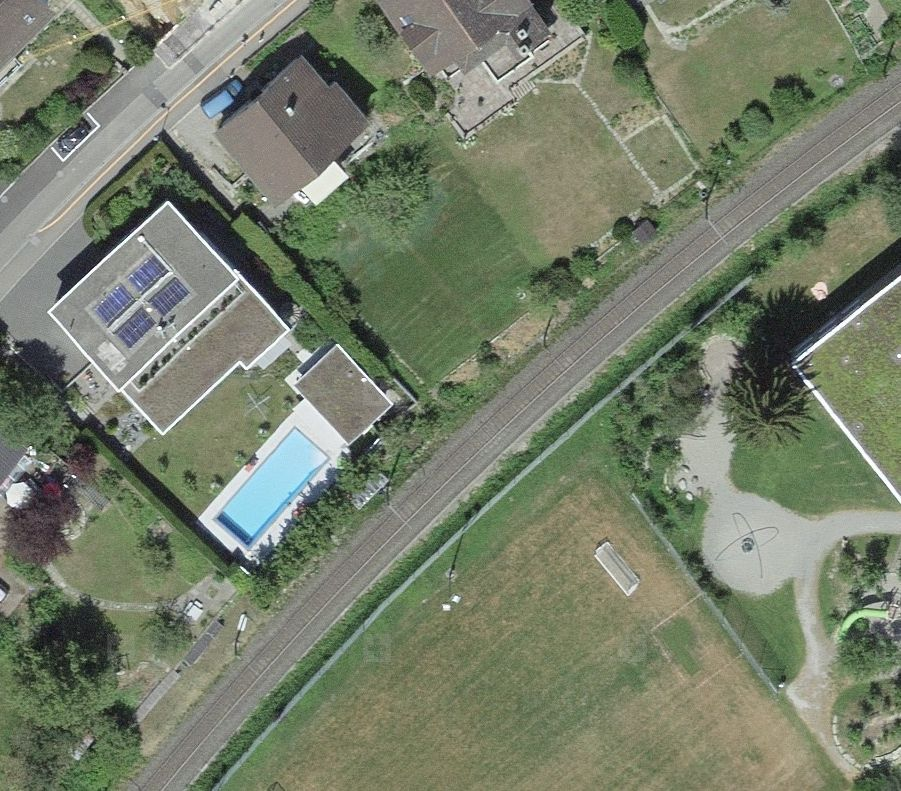solar: (85, 247, 198, 358)
